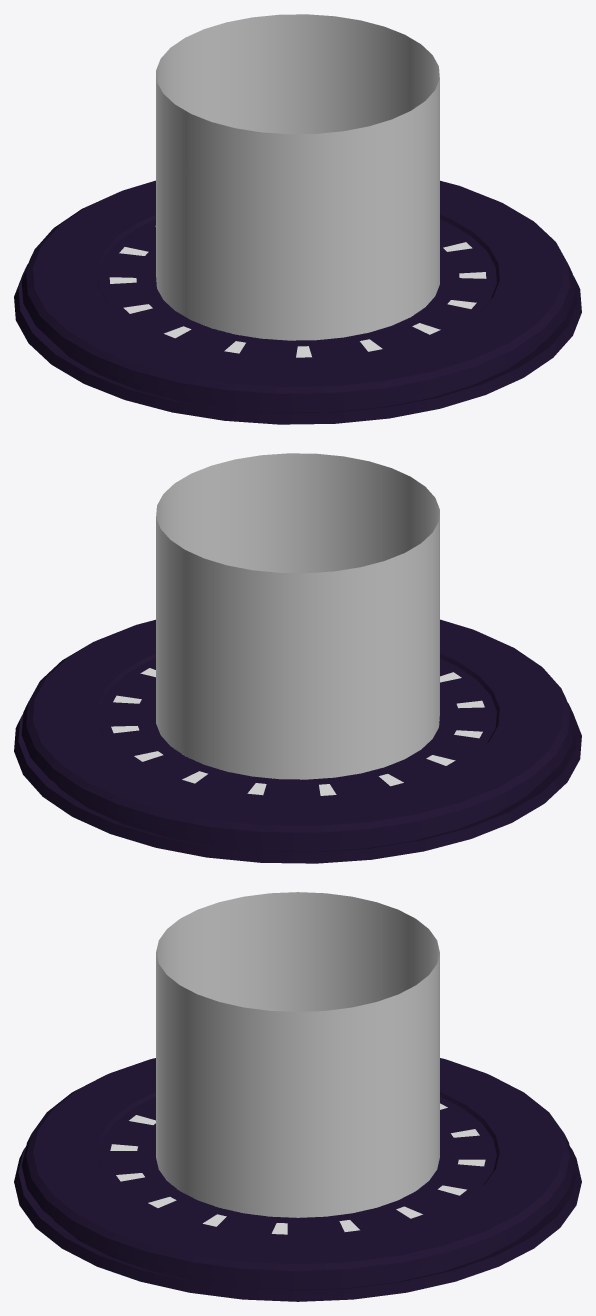
The model's file is platform.glb.
3 views of the same model, one above another, from view 1: azimuth 30°, elevation 25°; view 2: azimuth 150°, elevation 25°; view 3: azimuth 270°, elevation 25° (orthographic).
Parts seen in each view (by area): view 1: base, light; view 2: base, light; view 3: base, light.
Part boxes in pixels (x1,y1,x2,y2): base: (14,14,581,424); light: (109,226,486,357); base: (14,453,581,863); light: (111,668,484,795); base: (14,892,581,1301); light: (110,1103,485,1234).
Bounding box in the file's own units: 2 × 0.8928 × 2.
